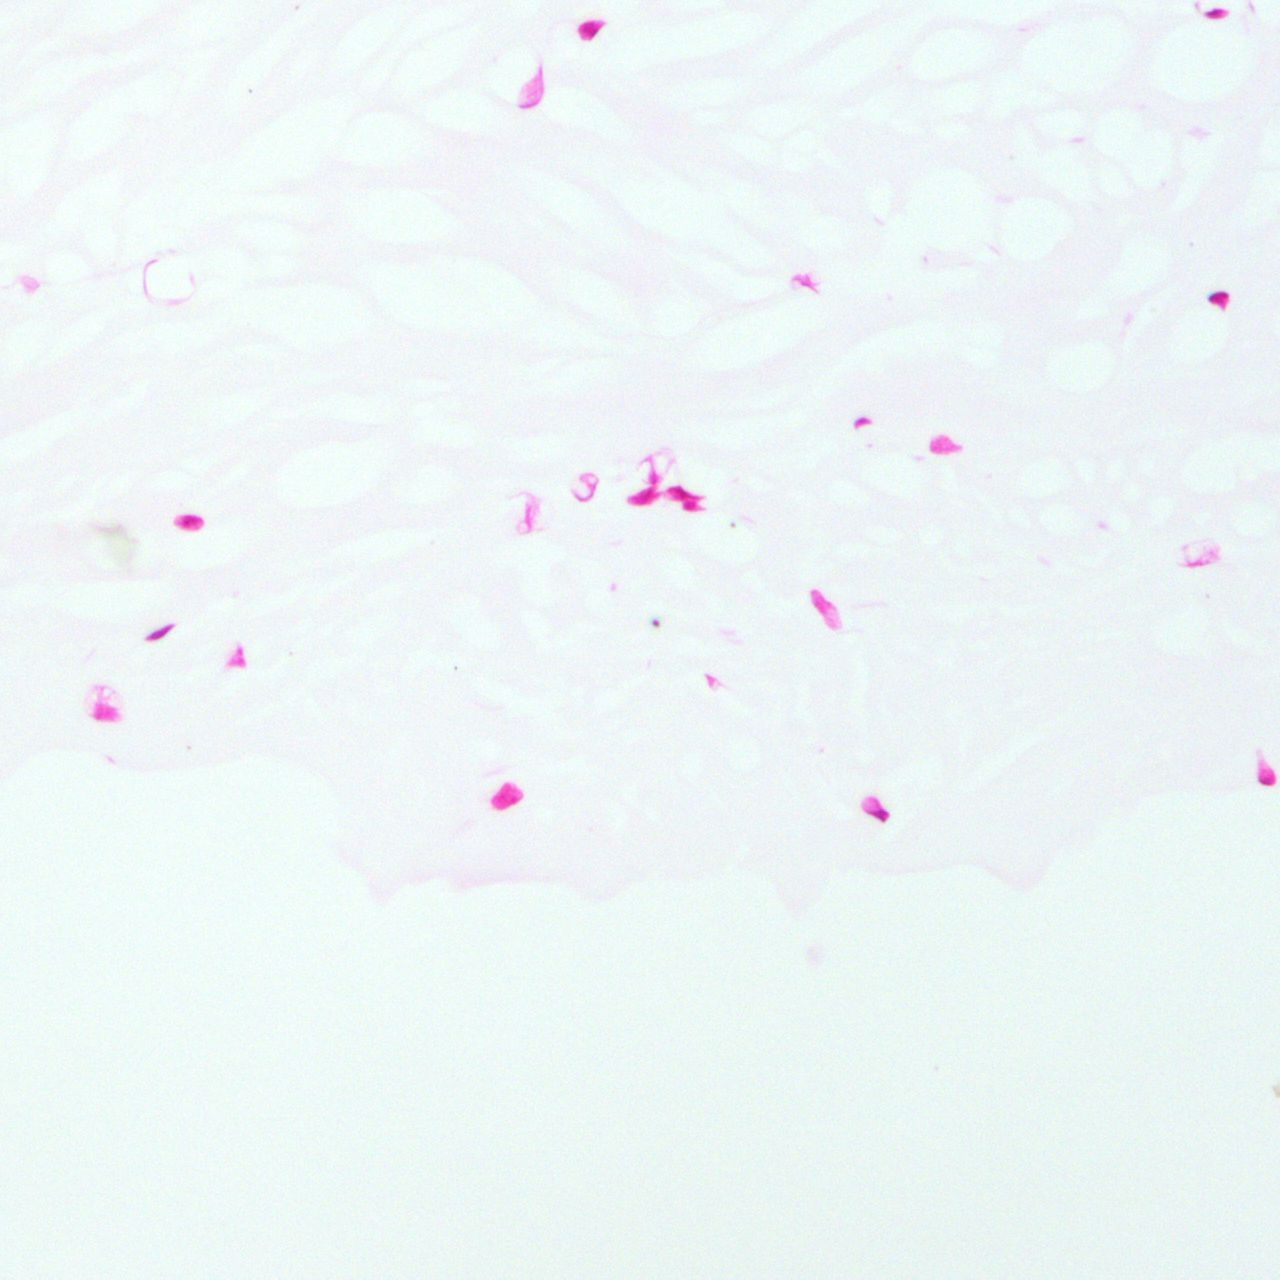dust: (652, 619, 659, 625), (731, 522, 735, 527)
nucleus-FG: (663, 482, 704, 515), (856, 790, 893, 825), (576, 11, 605, 42), (147, 621, 176, 644), (175, 515, 203, 530), (1208, 291, 1228, 306), (1204, 9, 1227, 18)
